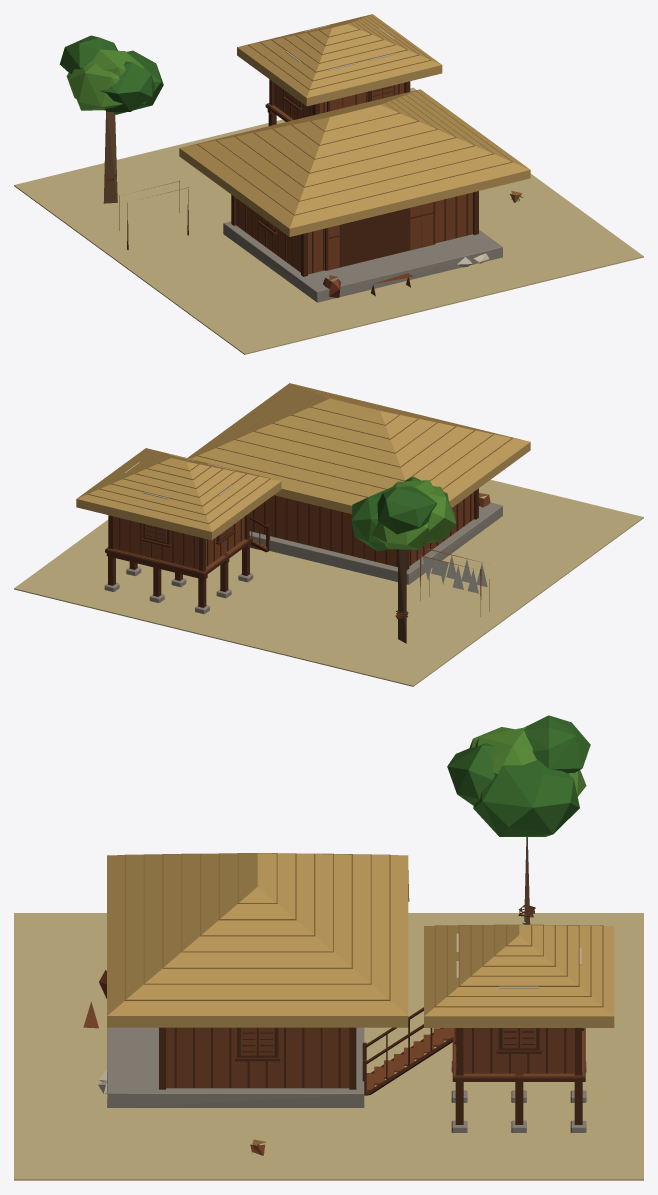
Rendered from shop_2.glb.
3 renders of one model, top to bottom at view 1: azimuth 30°, elevation 25°; view 2: azimuth 150°, elevation 25°; view 3: azimuth 270°, elevation 25°, orthographic. The views are drawn at different scales.
Visible parts, largest first — view 1: body; view 2: body; view 3: body.
Part boxes in pixels (box(x1,y1,x2,y2)): body: box(14, 14, 643, 354); body: box(14, 383, 643, 686); body: box(14, 715, 643, 1180).
Bounding box in the file's own units: 15.9 × 6.44 × 15.9.
